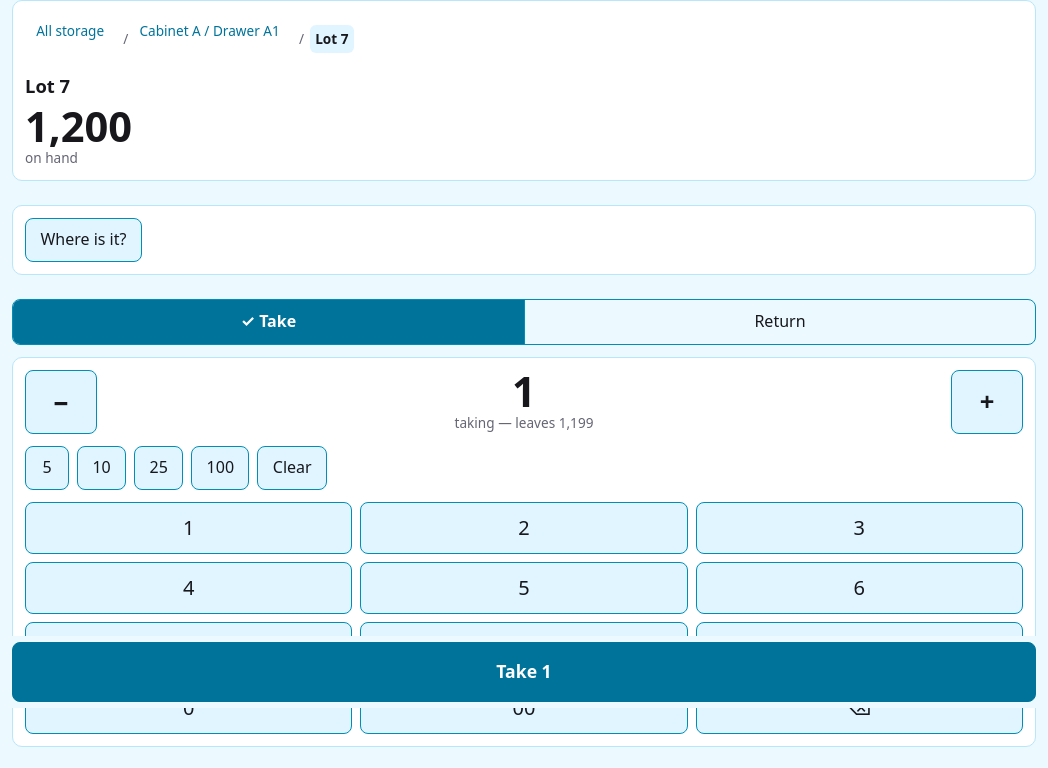
take / return › offers no undo when the server replayed a stored answer
Click the button "Take 1" at [524, 672], box [12,642,1036,702]
(page scrolled)
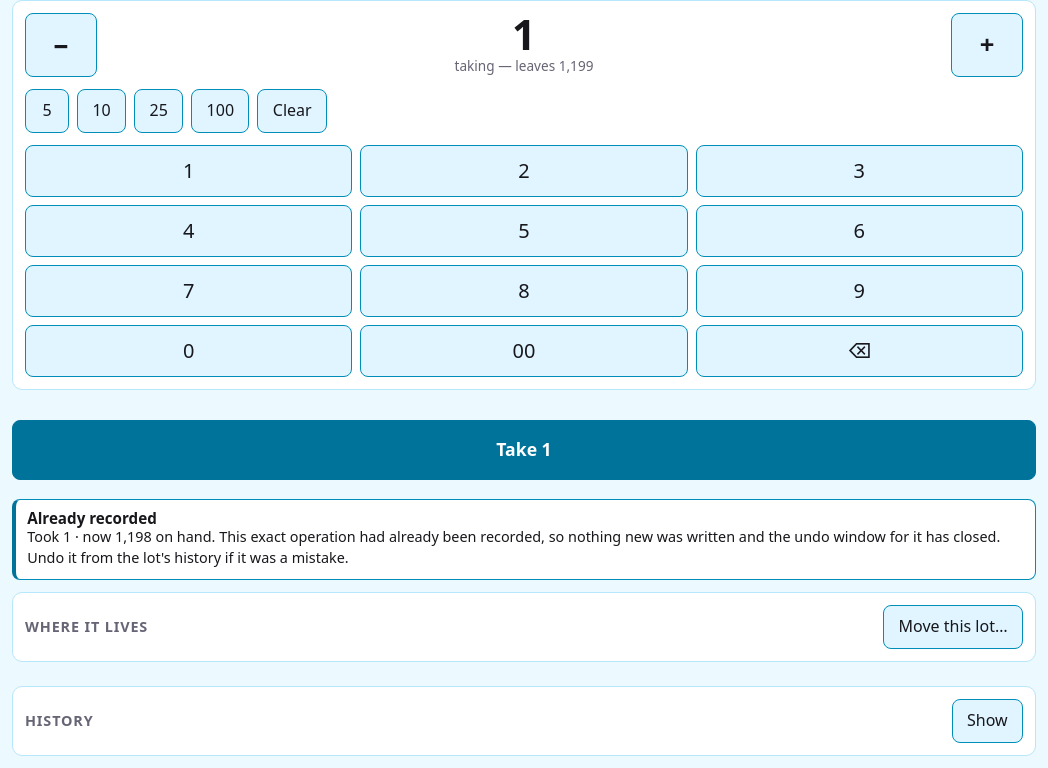
Expected: the heading "Already recorded" is shown, [27,508,157,528]
Expected: the text "undo window for it has closed" is shown, [27,527,1000,567]
